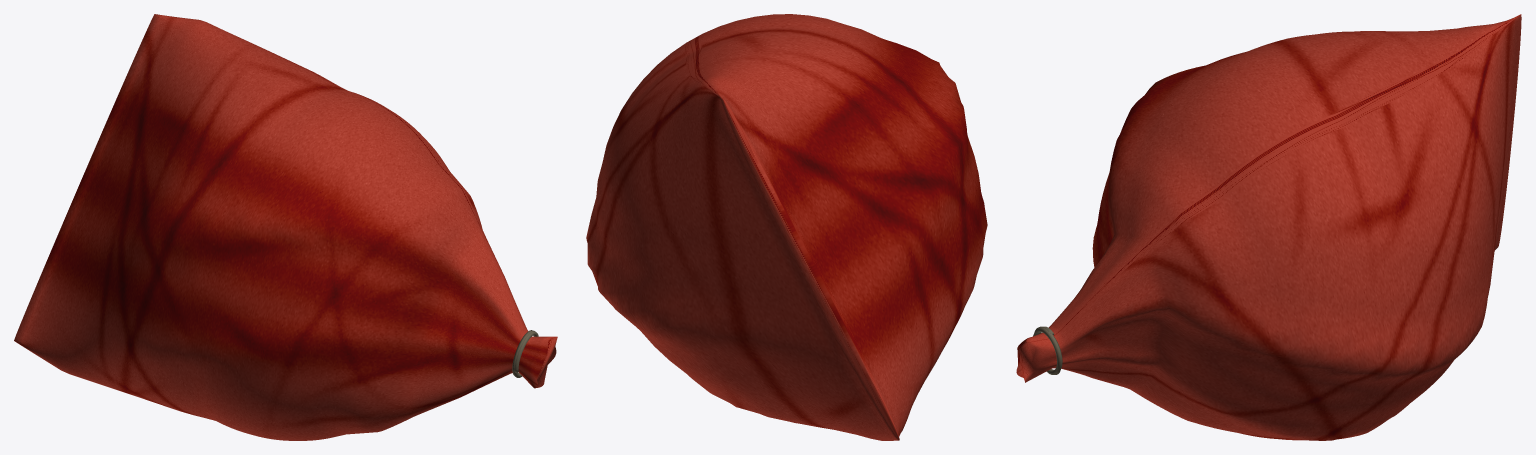
The model's file is peach_00_004.glb.
3 renders of one model, left to right at view 1: azimuth 30°, elevation 25°; view 2: azimuth 150°, elevation 25°; view 3: azimuth 270°, elevation 25°, orthographic. The views are drawn at different scales.
Parts seen in each view (by area): view 1: export_Tree00/shoot0_8_1/bag; view 2: export_Tree00/shoot0_8_1/bag; view 3: export_Tree00/shoot0_8_1/bag.
Boxes of the visible parts, <box> form: export_Tree00/shoot0_8_1/bag: <box>14,14,557,440</box>; export_Tree00/shoot0_8_1/bag: <box>586,14,987,440</box>; export_Tree00/shoot0_8_1/bag: <box>1016,14,1521,440</box>.
Size of the model in its own units: 0.101 by 0.0945 by 0.112.
4 materials, 1 textured.
